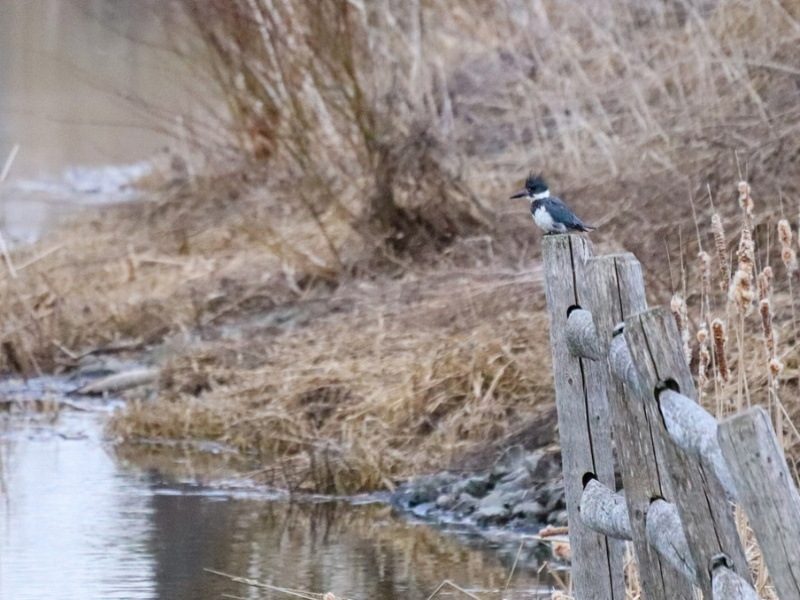kingfisher: (509, 175, 598, 237)
